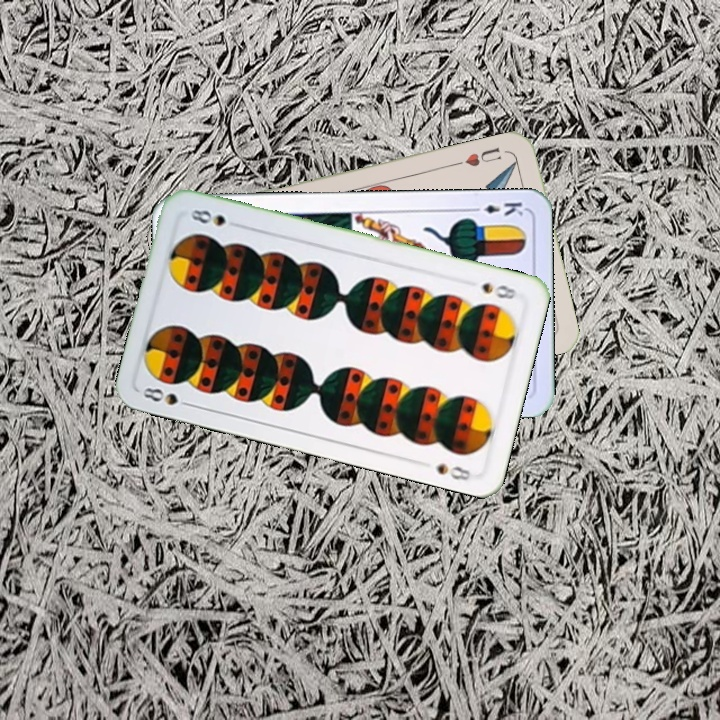EK: (467, 198, 526, 218)
HU: (453, 143, 504, 169)
S8: (139, 383, 197, 410), (478, 278, 520, 302)
